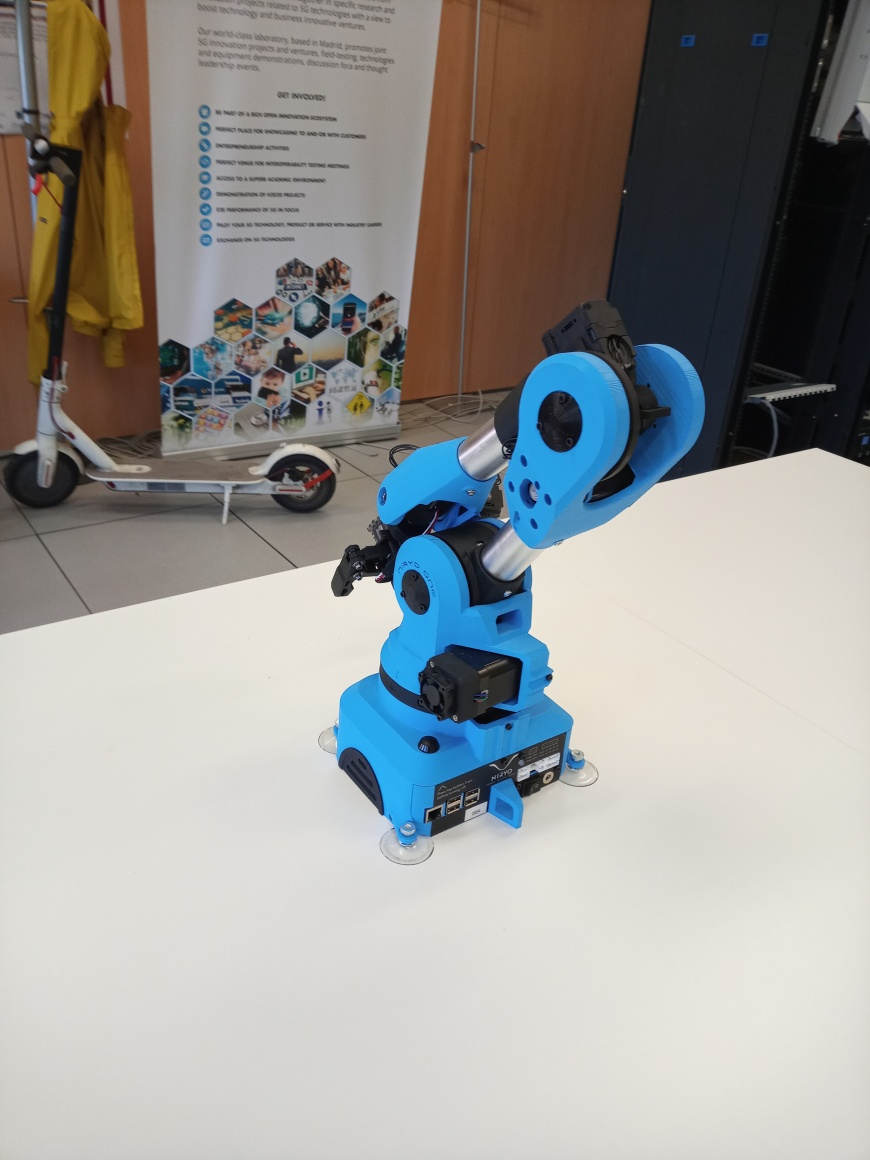robot: (314, 296, 708, 870)
